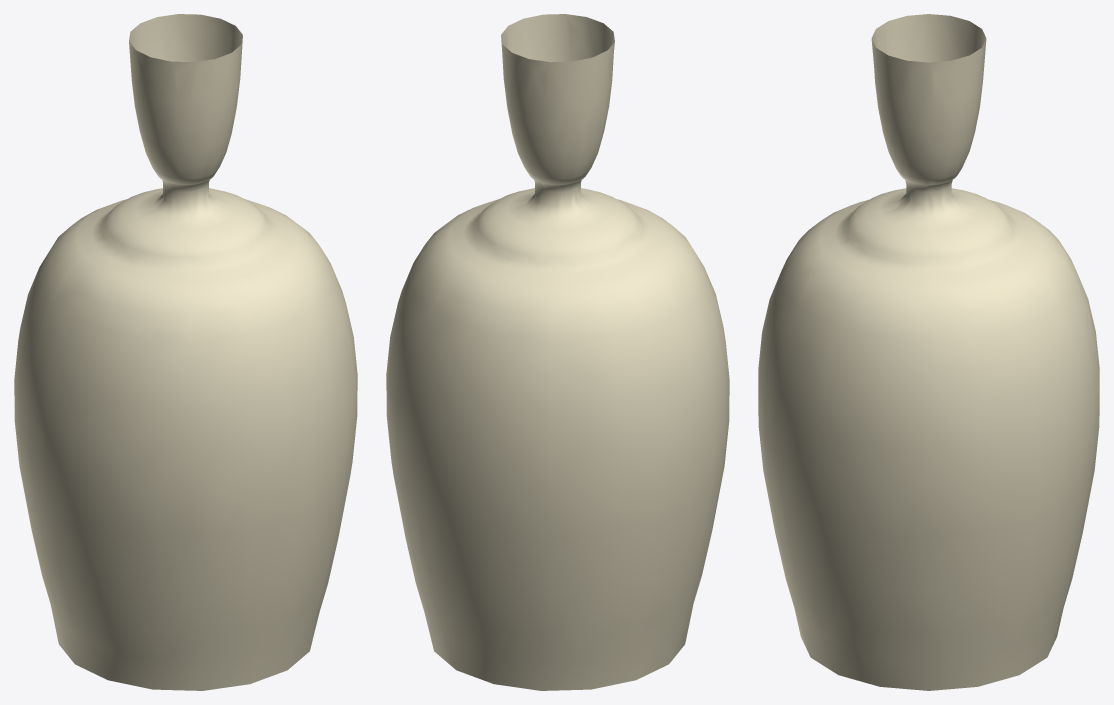
Rendered from mesh89__f432ed18_2d94_1547_b6ac_1288fc1b07ae__0_lev1.glb.
The picture shows the model from 3 angles, left to right: view 1: azimuth 30°, elevation 25°; view 2: azimuth 150°, elevation 25°; view 3: azimuth 270°, elevation 25°; orthographic projection.
Parts seen in each view (by area): view 1: mesh89__f432ed18_2d94_1547_b6ac_1288fc1b07ae__0_lev1; view 2: mesh89__f432ed18_2d94_1547_b6ac_1288fc1b07ae__0_lev1; view 3: mesh89__f432ed18_2d94_1547_b6ac_1288fc1b07ae__0_lev1.
Part boxes in pixels (x1=…): mesh89__f432ed18_2d94_1547_b6ac_1288fc1b07ae__0_lev1: x1=14, y1=14, x2=357, y2=690; mesh89__f432ed18_2d94_1547_b6ac_1288fc1b07ae__0_lev1: x1=386, y1=14, x2=729, y2=690; mesh89__f432ed18_2d94_1547_b6ac_1288fc1b07ae__0_lev1: x1=758, y1=14, x2=1099, y2=690.
Size of the model in its own units: 1.3 by 2.51 by 1.3.
